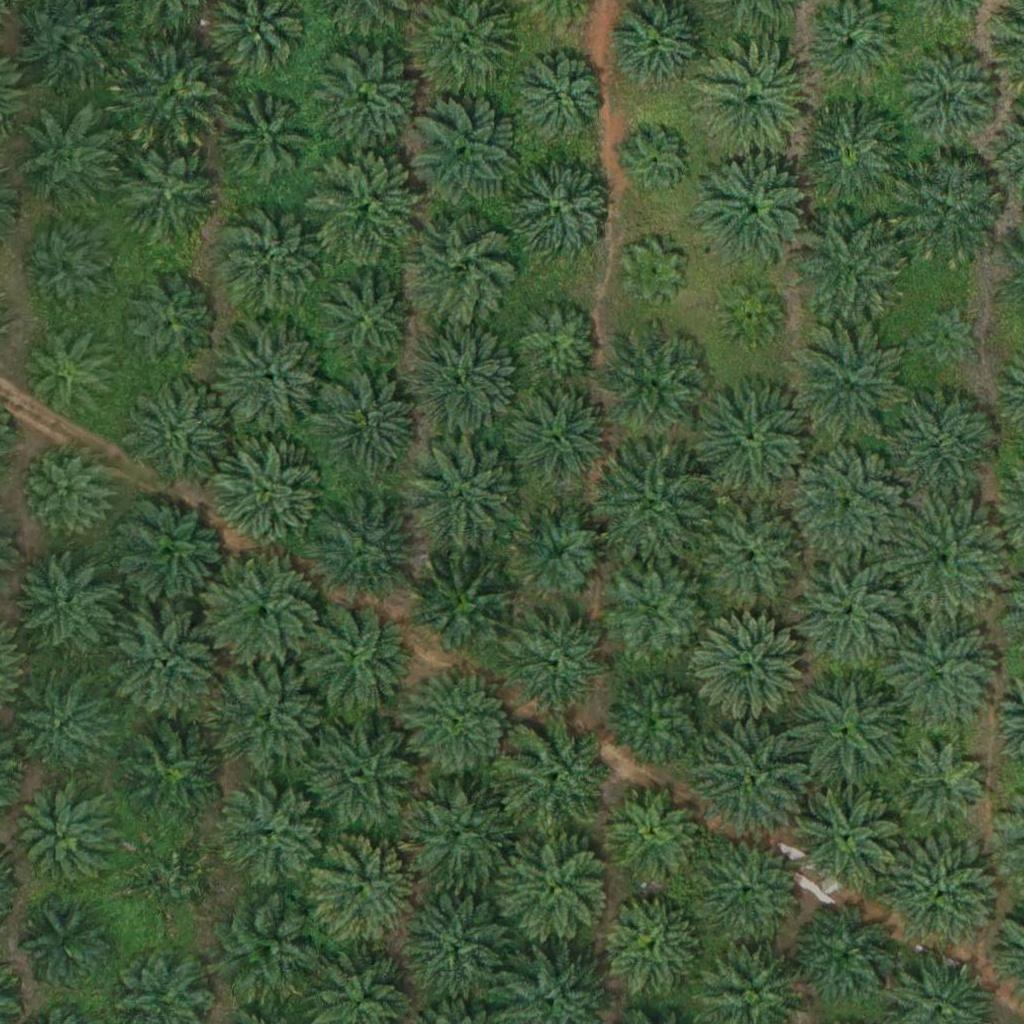Kelapa_Sawit: (411, 549, 524, 663), (119, 374, 232, 488), (296, 601, 409, 715), (403, 667, 516, 781), (501, 720, 614, 834), (498, 831, 611, 945), (310, 46, 423, 159), (696, 46, 809, 159), (789, 323, 902, 436), (793, 446, 906, 559), (698, 157, 811, 270), (695, 383, 808, 496), (403, 212, 516, 325), (407, 325, 520, 438), (408, 440, 521, 553), (308, 150, 421, 263), (310, 270, 423, 383), (111, 495, 224, 608), (110, 610, 223, 723), (113, 716, 226, 829), (211, 898, 324, 1011), (399, 780, 512, 893), (695, 613, 808, 726), (788, 558, 901, 671), (791, 672, 904, 785), (792, 777, 905, 890), (886, 837, 999, 950), (892, 156, 1004, 270), (795, 99, 907, 213), (306, 489, 418, 603), (216, 320, 328, 434), (212, 441, 324, 555), (12, 105, 124, 219), (887, 388, 999, 501), (889, 501, 1001, 614), (798, 212, 910, 325), (695, 502, 807, 615), (599, 329, 711, 442), (598, 451, 710, 564), (507, 156, 619, 269), (501, 387, 613, 500), (407, 97, 519, 210), (311, 372, 423, 485), (217, 204, 329, 317), (113, 38, 225, 151), (207, 556, 319, 669), (212, 660, 324, 773), (213, 778, 325, 891), (308, 719, 420, 832), (309, 834, 421, 947), (406, 887, 518, 1000), (693, 726, 805, 839), (691, 836, 803, 949), (883, 619, 995, 732), (509, 504, 609, 605), (214, 88, 314, 189), (18, 551, 118, 652), (7, 676, 107, 777), (16, 796, 116, 897), (15, 893, 115, 994), (609, 559, 709, 660), (610, 669, 710, 770), (794, 904, 894, 1005), (894, 737, 994, 838), (901, 48, 1001, 148), (117, 147, 217, 247), (118, 277, 218, 377), (17, 320, 117, 420), (512, 609, 612, 709), (608, 784, 708, 884), (604, 896, 704, 996), (516, 57, 604, 145), (513, 297, 601, 385), (134, 840, 221, 929), (19, 228, 106, 316), (26, 447, 113, 535), (719, 284, 782, 347), (627, 130, 690, 193), (622, 241, 685, 304), (916, 304, 978, 367)
